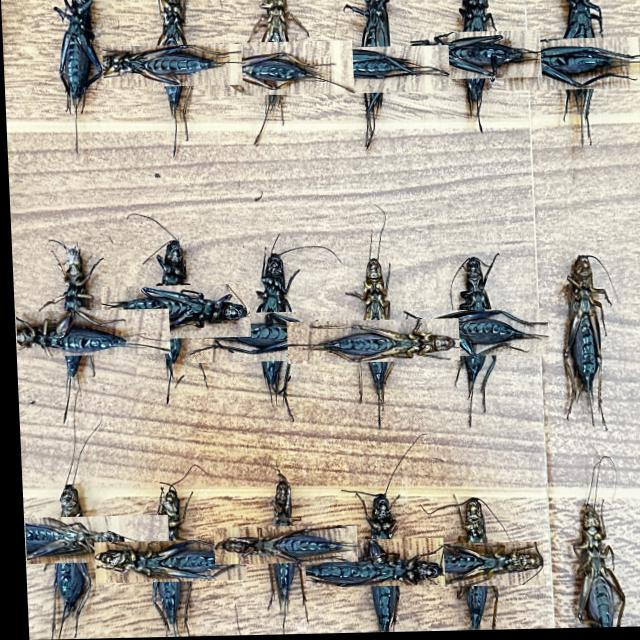egg: (185, 314, 354, 361), (98, 287, 247, 340), (202, 44, 352, 95), (283, 321, 455, 363), (291, 50, 448, 96), (559, 260, 603, 423), (11, 311, 166, 356), (501, 42, 640, 92), (397, 312, 543, 358), (299, 541, 438, 588), (18, 518, 164, 561), (89, 541, 239, 582), (409, 34, 539, 81), (570, 507, 618, 630), (101, 46, 240, 87), (406, 546, 538, 588), (56, 0, 101, 120), (208, 526, 350, 564)
